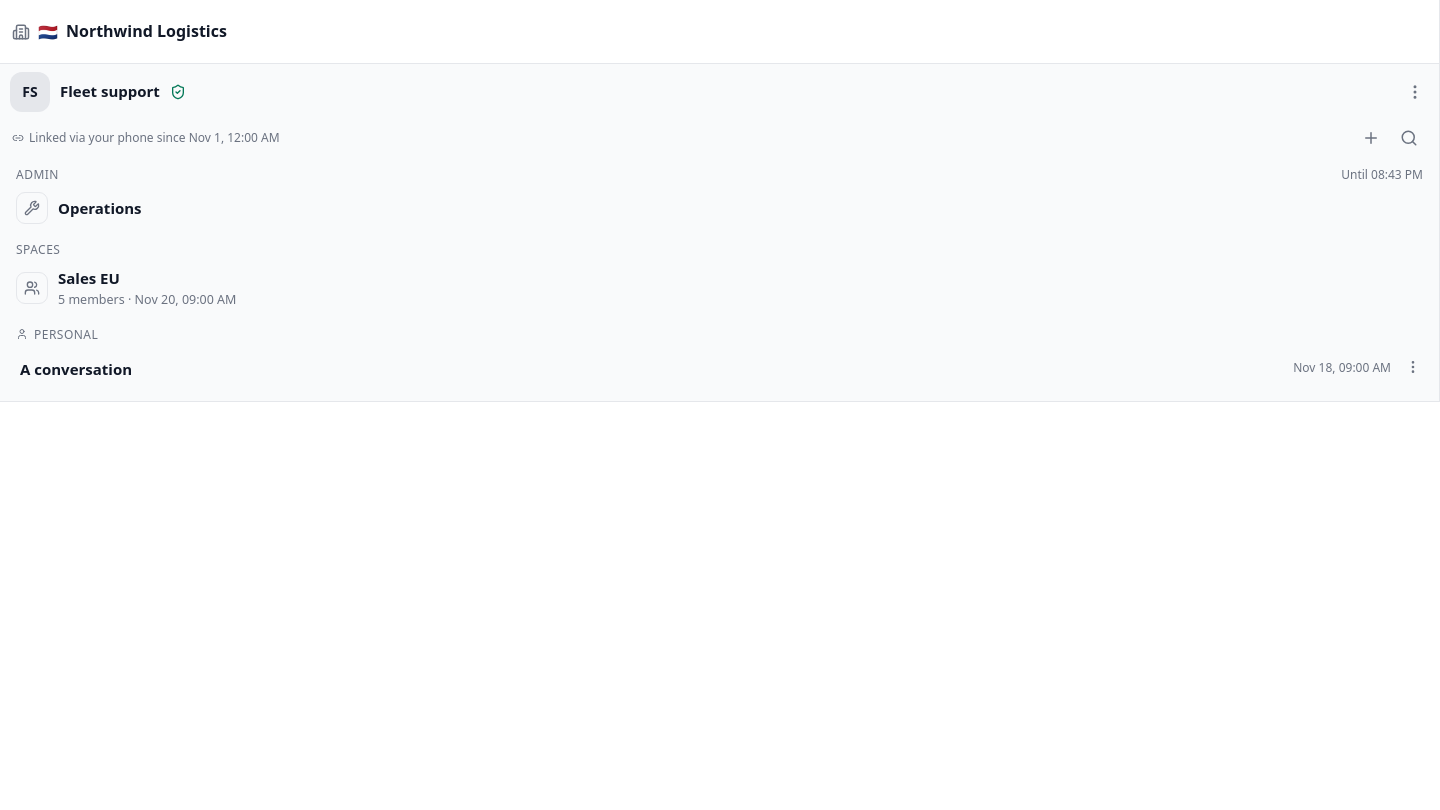
Test: the ADMIN area, exactly while the grant is open (UI-ADMIN-003) › Hide Admin ends the grant at once: the area hides and the page closes
Step 1. Click the button with class "space-row" showing "Operations" → x=32, y=208, box [8,185,1431,231]
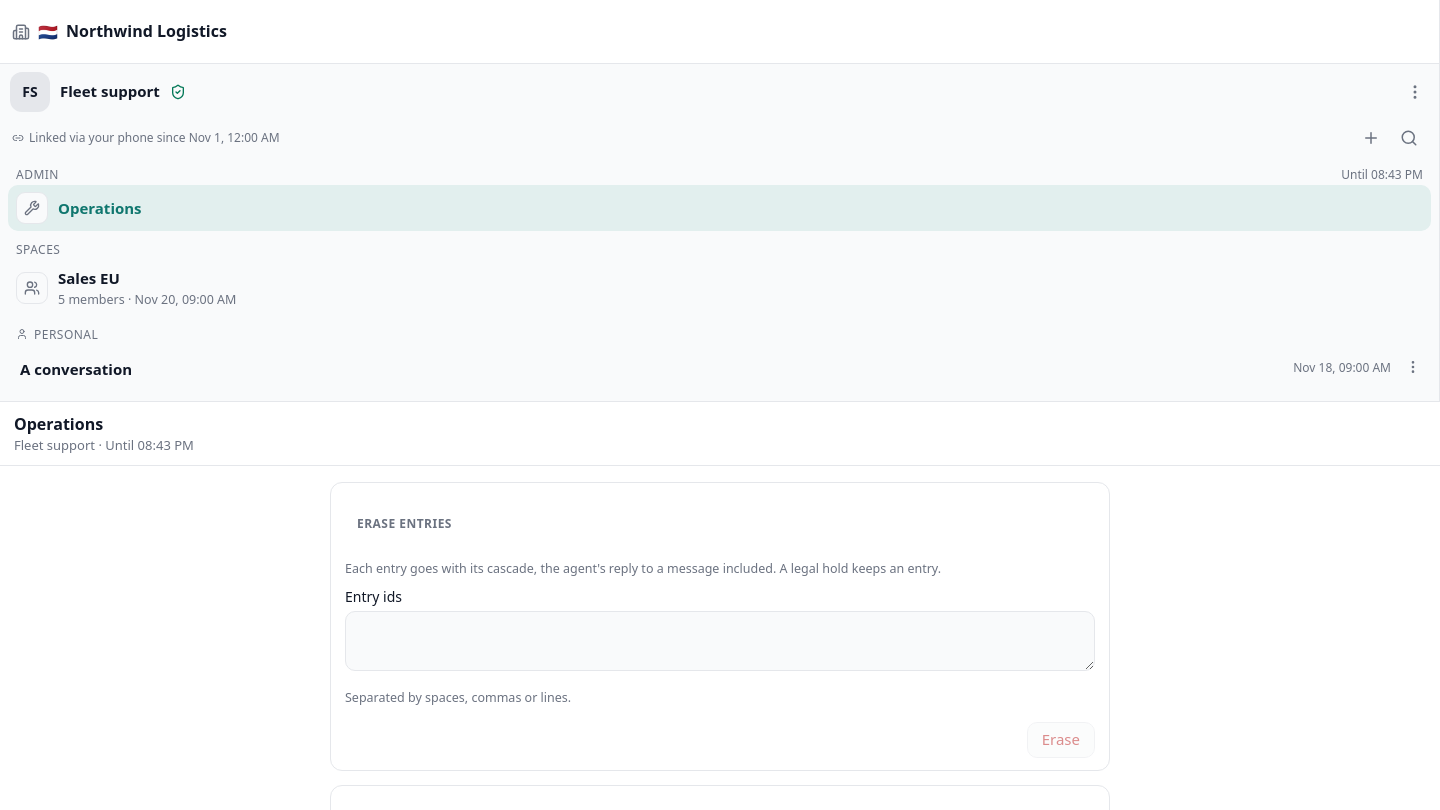
Step 2. Click the 1st button named "Agent options" → x=1415, y=92, box [1397,74,1433,110]
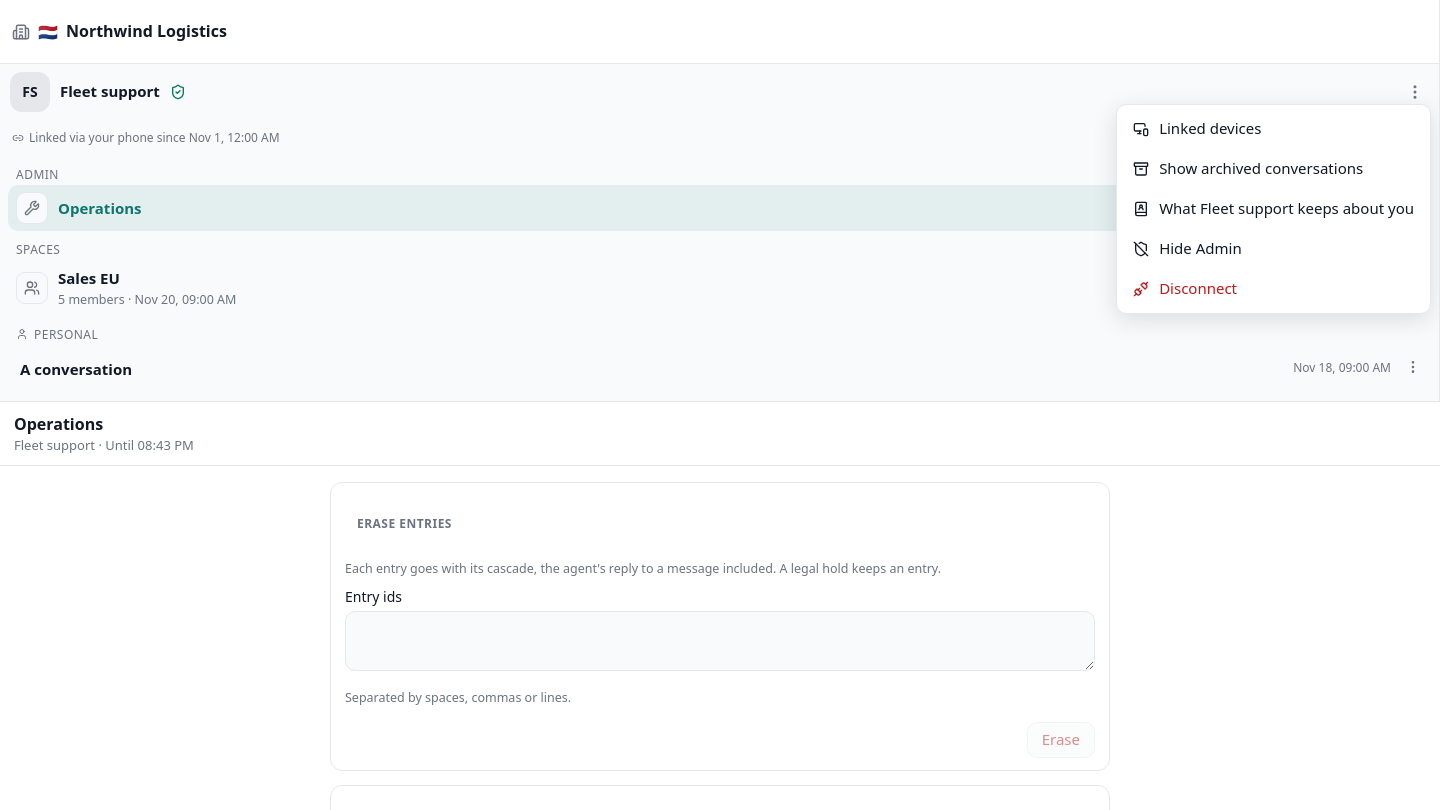
Step 3. Click the menu item "Hide Admin" → x=1200, y=248, box [1121,229,1426,269]
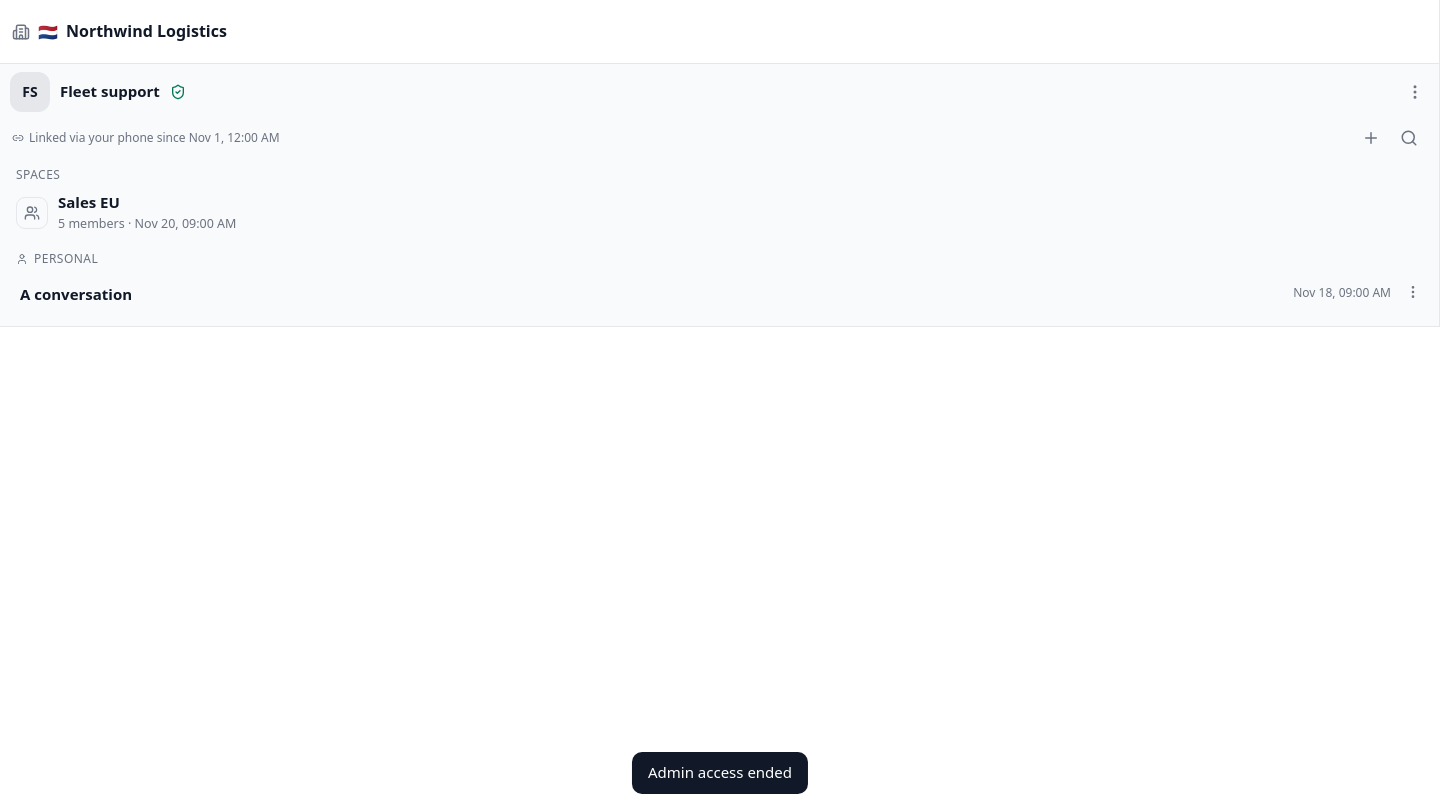
Expected: the message with class "toast" reads "Admin access ended", [648,762,792,782]
Step 4. Click the 1st button named "Agent options" → x=1415, y=92, box [1397,74,1433,110]
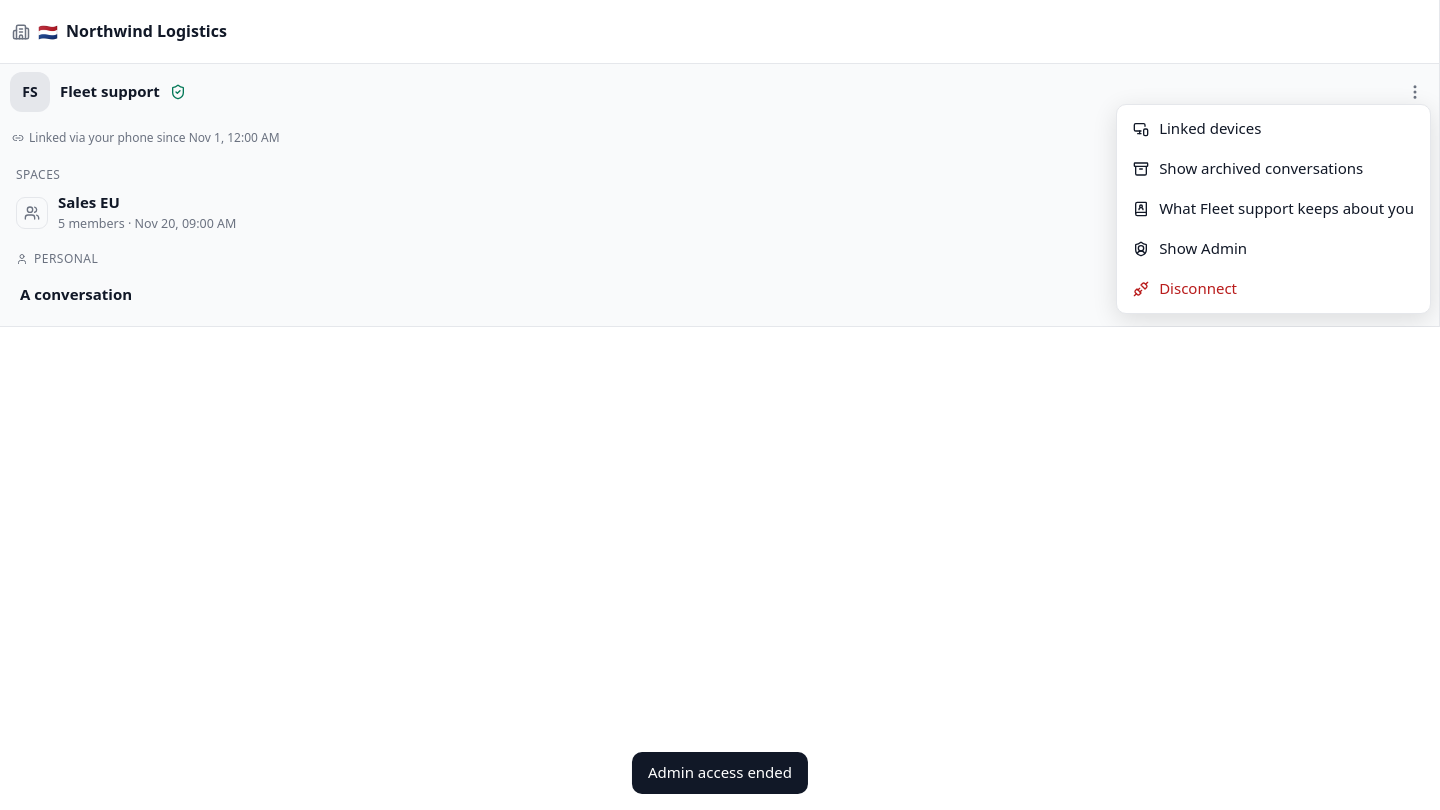
Expected: the menu item "Show Admin" is shown, [1121,229,1426,269]
